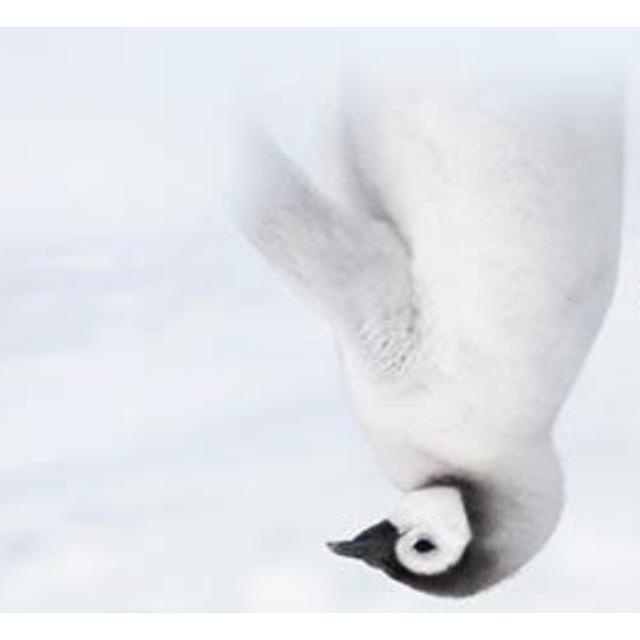penguin: (222, 36, 623, 599)
